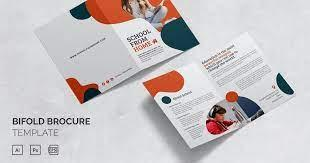paper: (32, 0, 296, 151)
